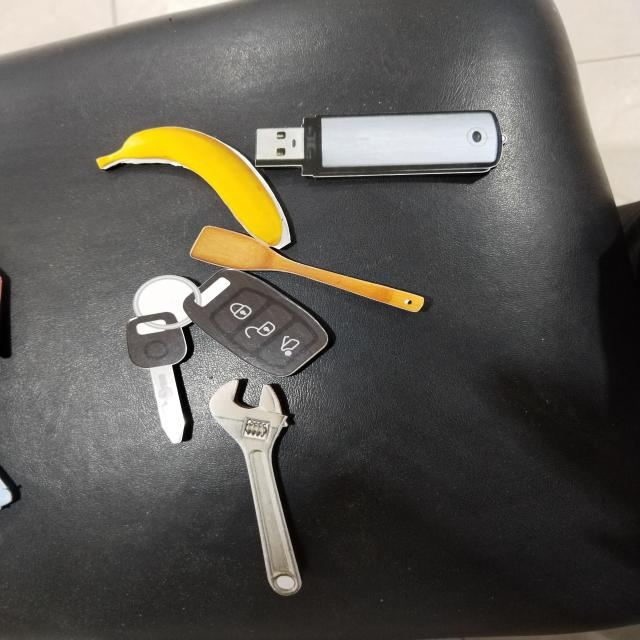Other Objects: (56, 235, 342, 446), (92, 104, 331, 251), (204, 374, 322, 600), (187, 223, 432, 321), (253, 110, 504, 180)
